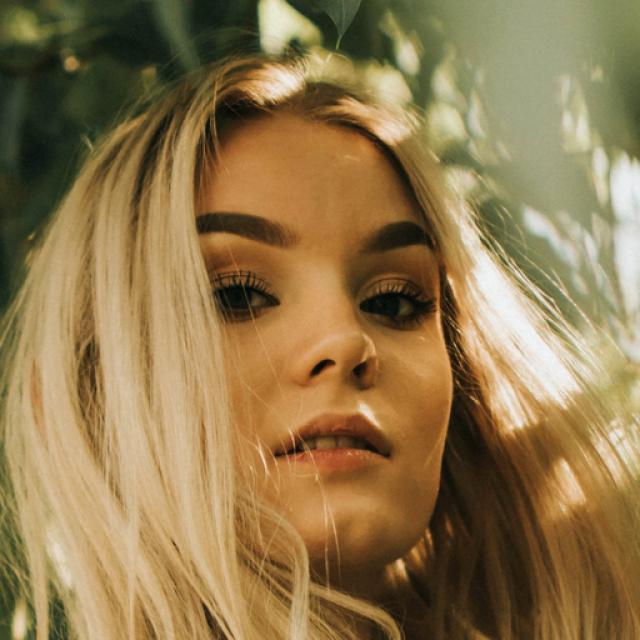neutral: (172, 120, 456, 555)
